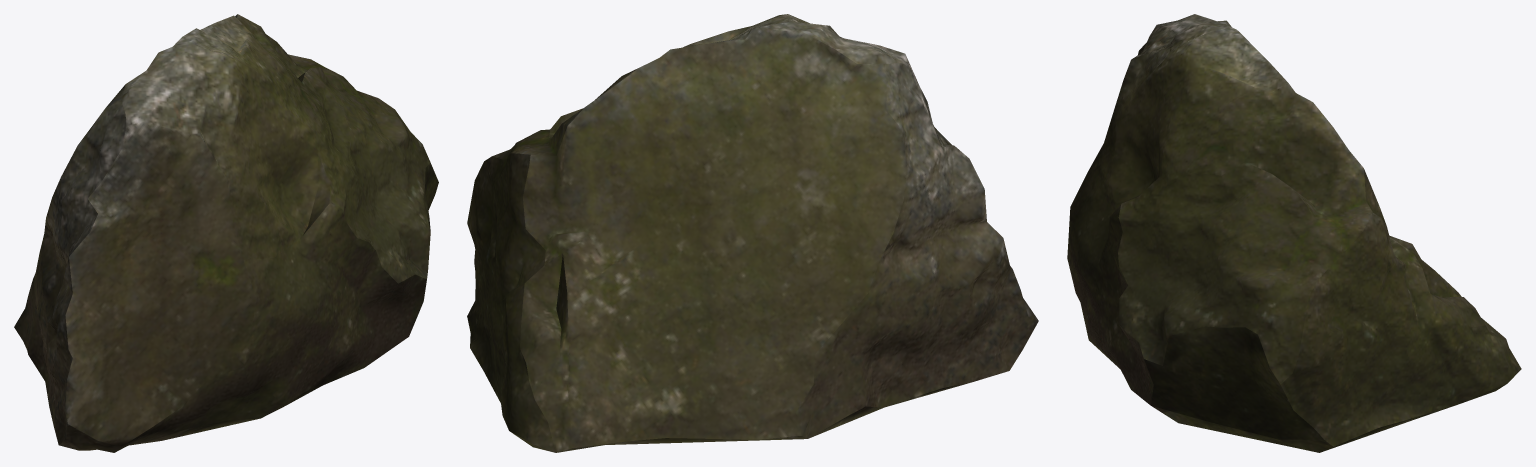
File: stone.glb
The picture shows the model from 3 angles, left to right: view 1: azimuth 30°, elevation 25°; view 2: azimuth 150°, elevation 25°; view 3: azimuth 270°, elevation 25°; orthographic projection. The views are drawn at different scales.
Parts seen in each view (by area): view 1: LOD0; view 2: LOD0; view 3: LOD0.
Boxes of the visible parts, x1=… form: LOD0: x1=14, y1=14, x2=438, y2=452; LOD0: x1=467, y1=14, x2=1038, y2=452; LOD0: x1=1067, y1=14, x2=1521, y2=452.
Size of what is drawn, in the model's own units: 1.03 by 0.7176 by 0.93.
1 material, 1 textured.
